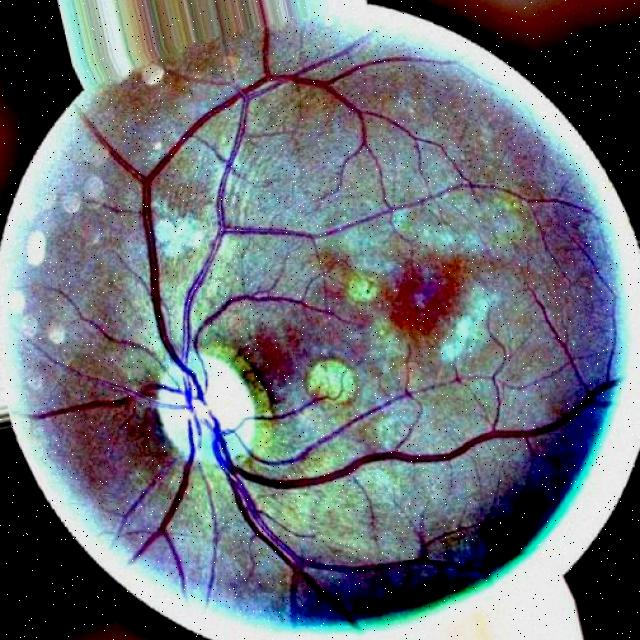Macula: (385, 264, 460, 335)
Nerves: (23, 27, 615, 603)
Optic Disk: (157, 349, 258, 461)
